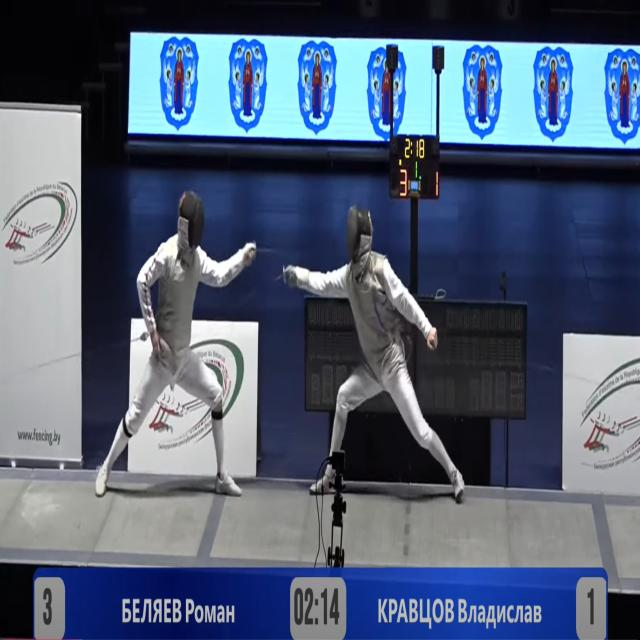fencer: (285, 203, 475, 503), (109, 195, 252, 514)
overlayLeft: (69, 572, 293, 640)
overlayRight: (343, 571, 549, 640)
scoreLeft: (33, 571, 67, 640)
scoreRight: (572, 572, 607, 640)
